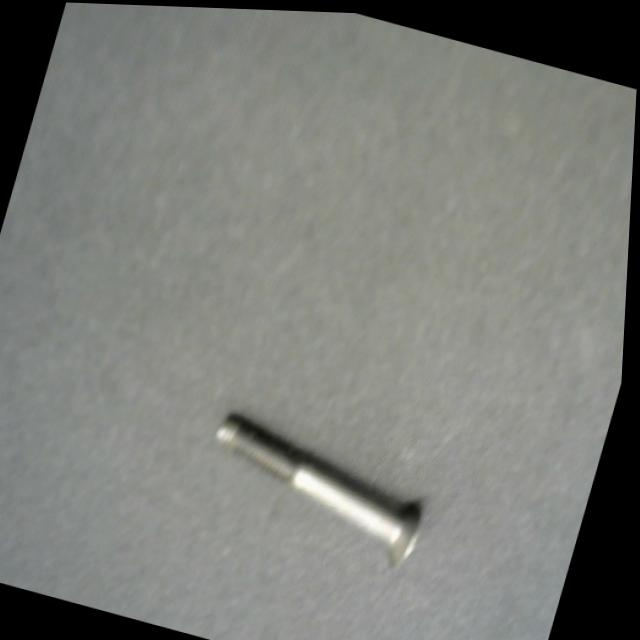FlatHeadSocketScrew: (191, 401, 448, 571)
